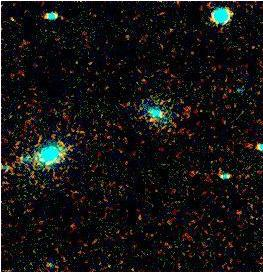star: (0, 3, 26, 33)
